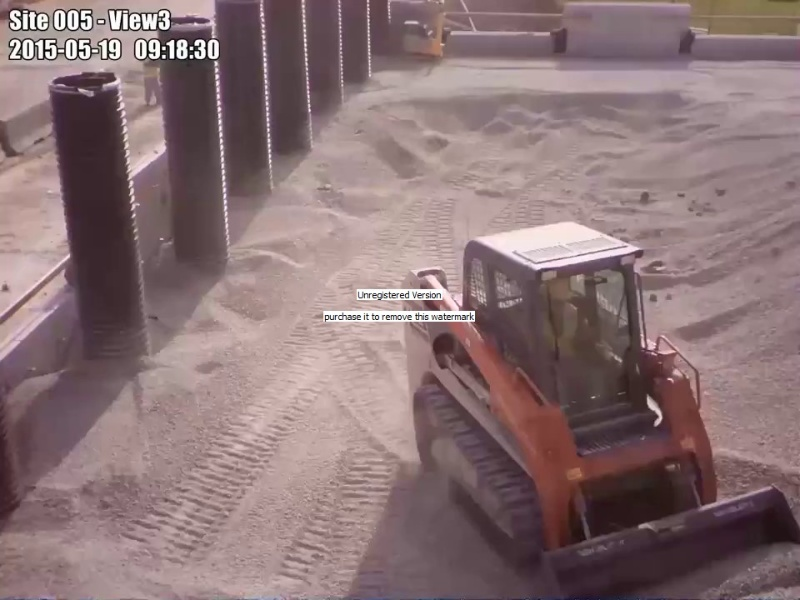bulldozer: (399, 219, 798, 600)
columns: (46, 68, 156, 366), (157, 16, 234, 274), (212, 1, 277, 198), (263, 1, 315, 159), (305, 1, 344, 107), (342, 1, 373, 85), (371, 1, 395, 59)
hardhat: (540, 277, 578, 302)
person: (538, 277, 591, 374)
wall: (446, 3, 800, 57)
